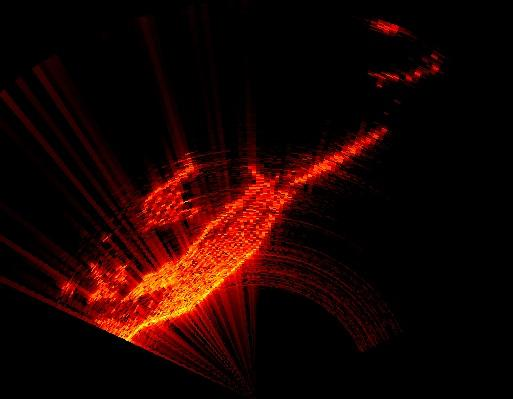shipwreck: (119, 130, 379, 338), (143, 159, 197, 231)
